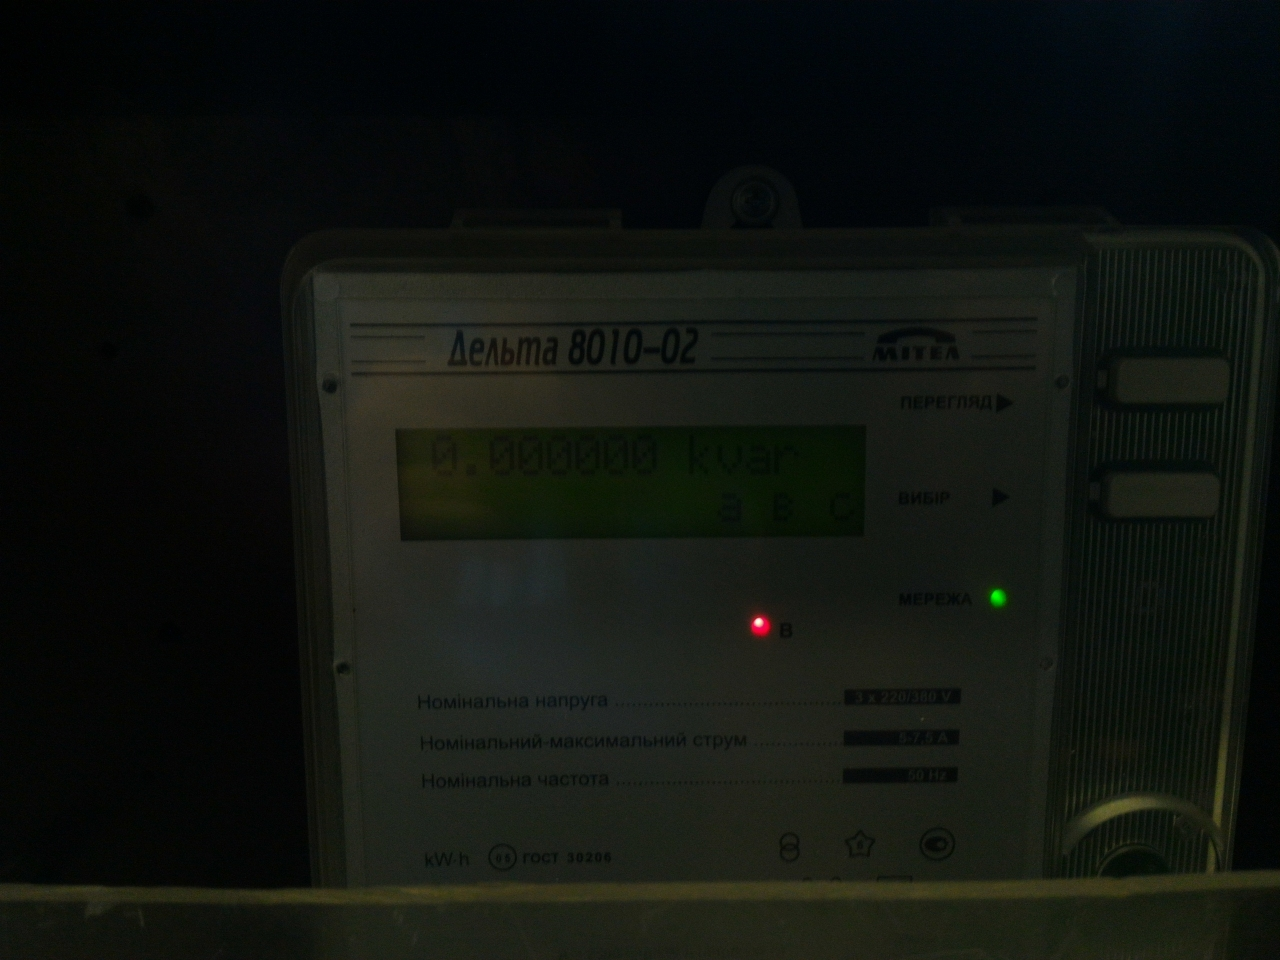screen: (368, 399, 896, 565)
